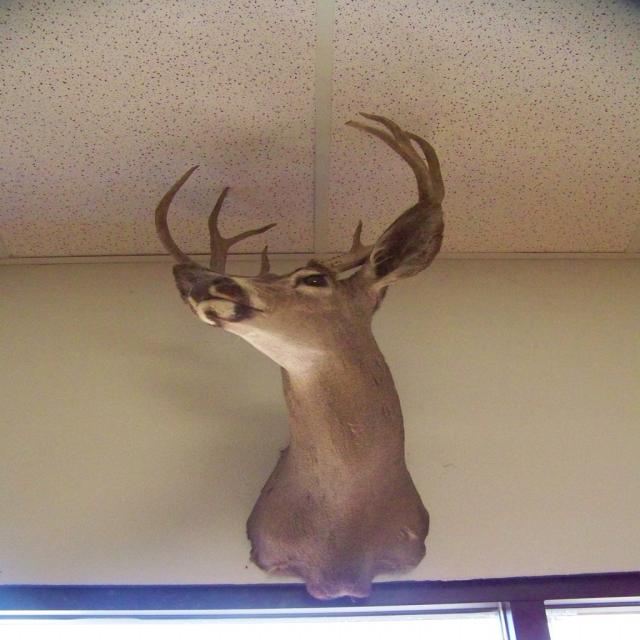Deer: (154, 112, 444, 600)
